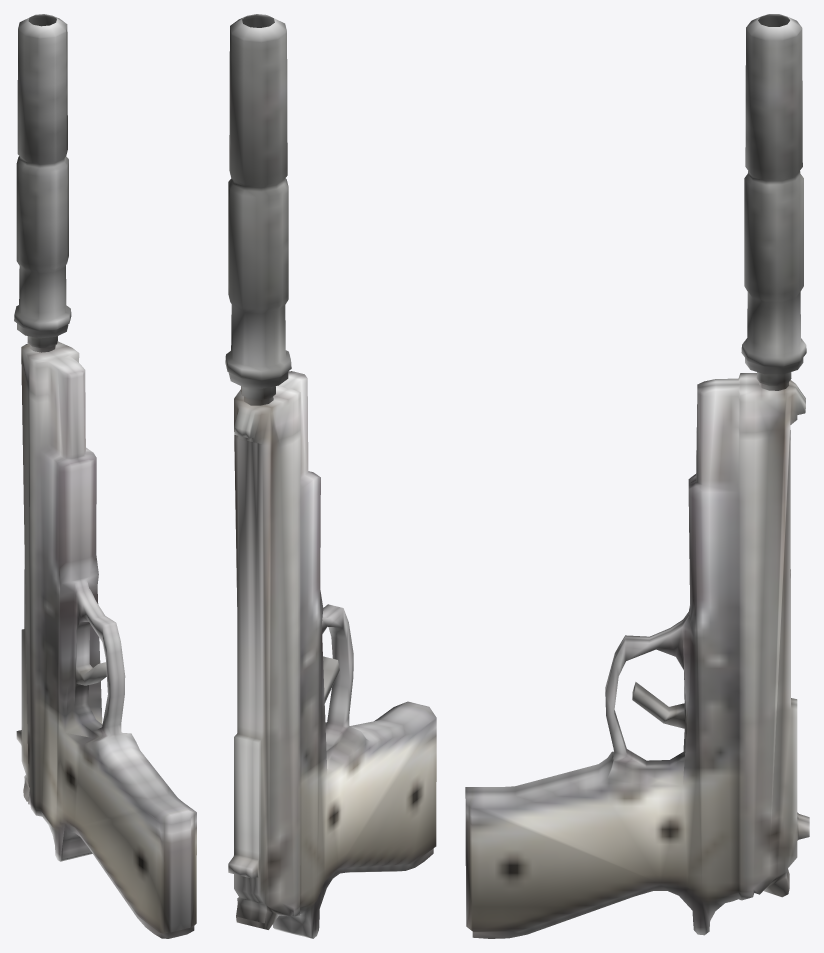
File: bereta_silver.glb
3 views of the same model, side by side, from view 1: azimuth 30°, elevation 25°; view 2: azimuth 150°, elevation 25°; view 3: azimuth 270°, elevation 25° (orthographic). The views are drawn at different scales.
Parts seen in each view (by area): view 1: body; view 2: body; view 3: body.
Part boxes in pixels (left/top/right/bottom): body: left=14, top=14, right=196, bottom=938; body: left=225, top=14, right=436, bottom=938; body: left=465, top=14, right=809, bottom=938.
Bounding box in the file's own units: 0.0148 × 0.24 × 0.082.
Materials: 1 (1 with a texture image).
